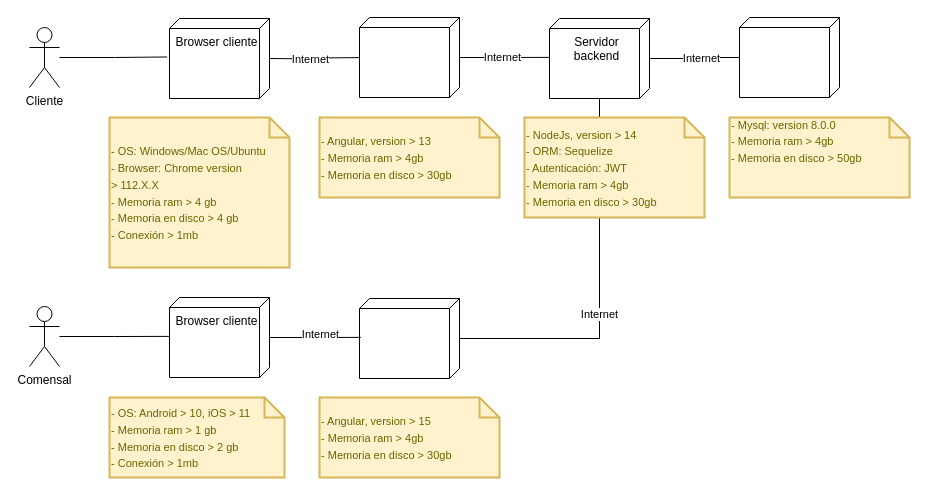
Some shapes in this 927 by 496 pixel diagram are drawn without their labels. Each missing label, with the centre of its shape:
"Servidor base de datos" belongs at (789,57).
"Servidor frontend BACKOFFICE" belongs at (409,57).
"Servidor frontend PWA" belongs at (409,338).
